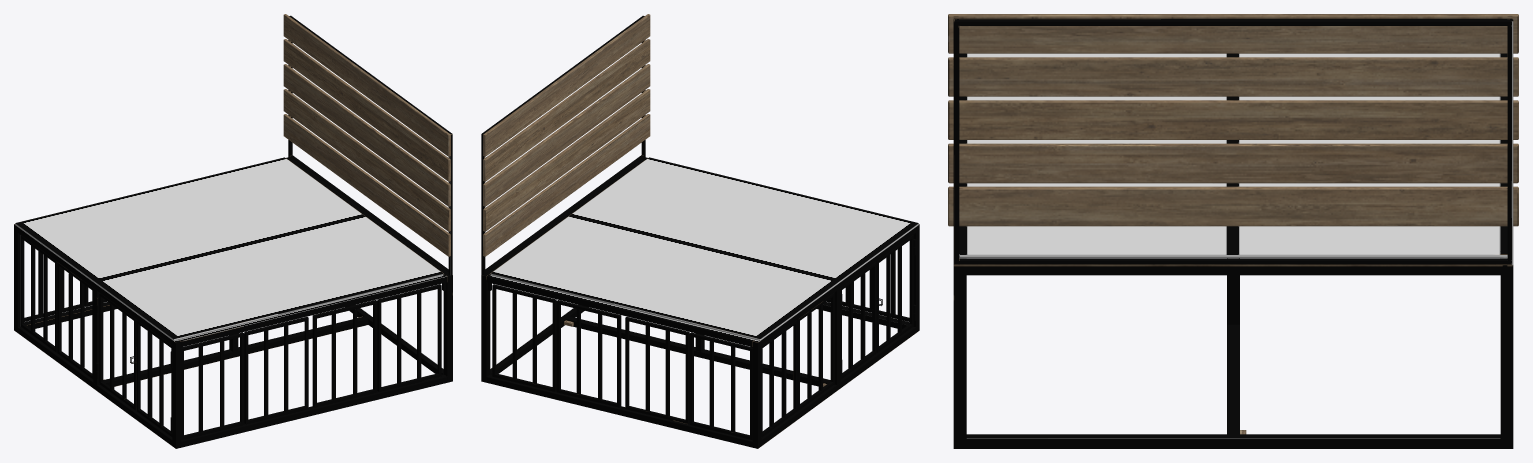
The model's file is bad.gltf.
The picture shows the model from 3 angles, left to right: view 1: azimuth 30°, elevation 25°; view 2: azimuth 150°, elevation 25°; view 3: azimuth 270°, elevation 25°; orthographic projection. The views are drawn at different scales.
Parts seen in each view (by area): view 1: bad; view 2: bad; view 3: bad.
Boxes of the visible parts, bbox=[...] form: bad: bbox=[14, 14, 452, 448]; bad: bbox=[481, 14, 919, 448]; bad: bbox=[948, 14, 1518, 448].
Bounding box in the file's own units: 2 × 1.69 × 2.04.
Materials: 1 (1 with a texture image).
